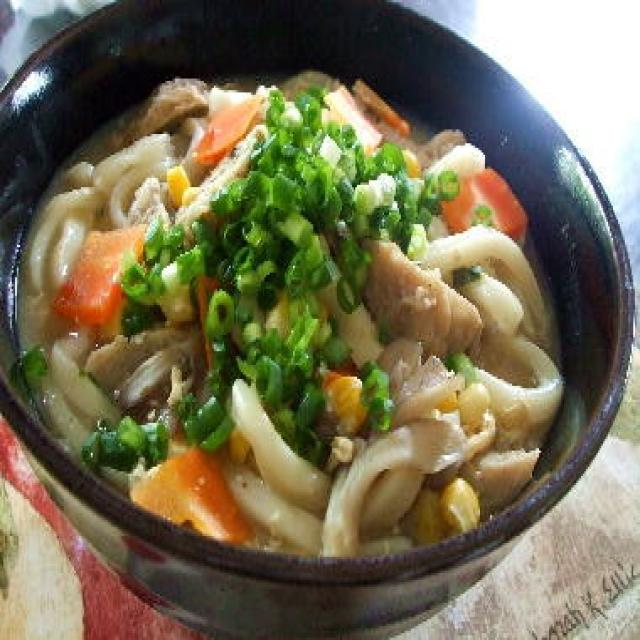蔬菜料理: (5, 0, 640, 619)
